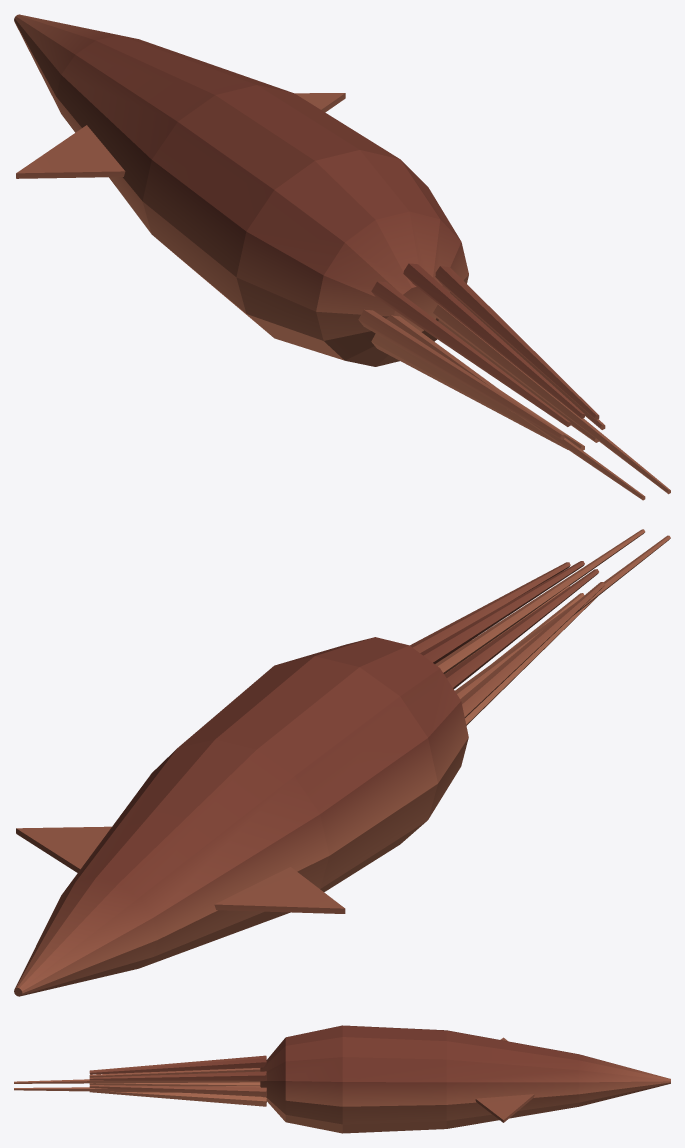
File: giantsquid.glb
3 renders of one model, top to bottom at view 1: azimuth 30°, elevation 25°; view 2: azimuth 150°, elevation 25°; view 3: azimuth 270°, elevation 25°, orthographic. The views are drawn at different scales.
Visible parts, largest first — view 1: giantsquid_male; view 2: giantsquid_male; view 3: giantsquid_male.
Boxes of the visible parts, bbox=[...] form: giantsquid_male: bbox=[14, 14, 670, 500]; giantsquid_male: bbox=[14, 529, 670, 996]; giantsquid_male: bbox=[14, 1025, 670, 1133].
Bounding box in the file's own units: 3.1 × 1.66 × 10.4.
